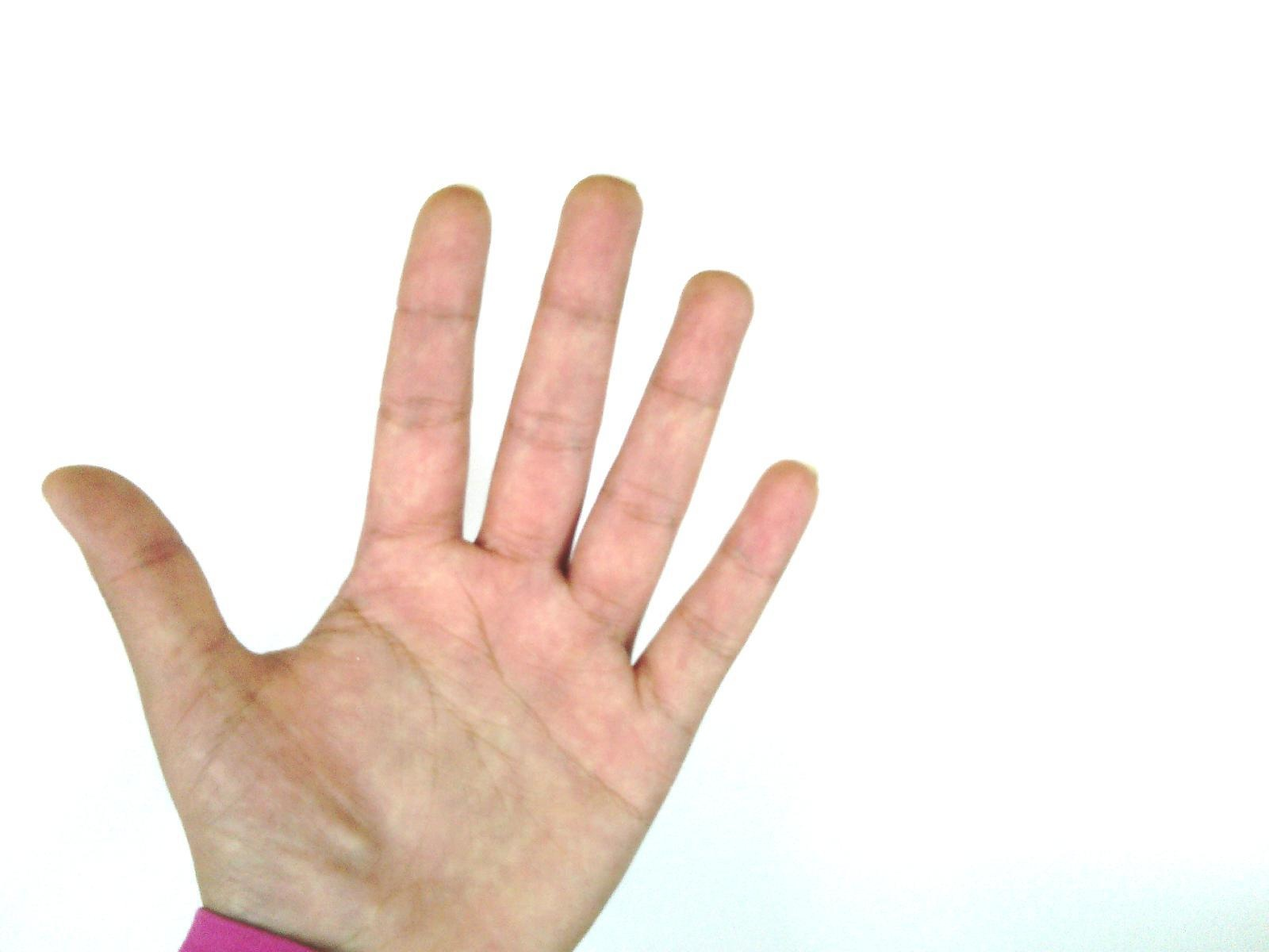open_palm: (41, 173, 822, 951)
